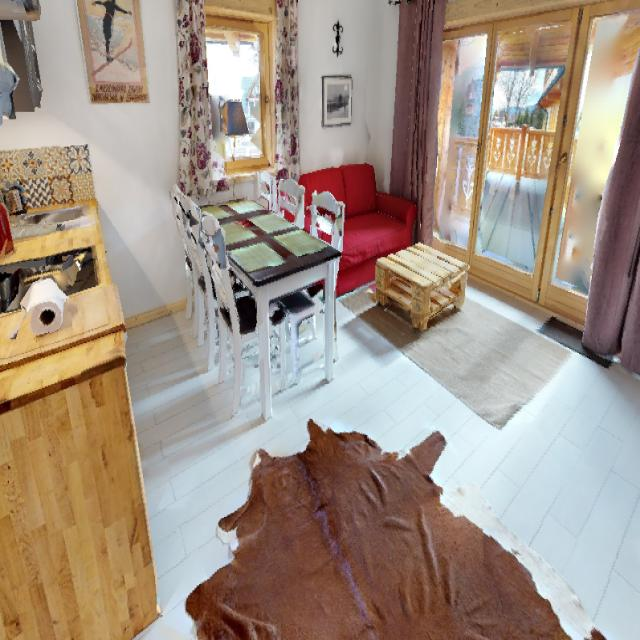chair: (192, 208, 283, 406), (161, 173, 241, 372), (276, 184, 350, 396)
sofa: (296, 136, 417, 306)
table: (185, 189, 353, 403), (368, 239, 481, 331)
